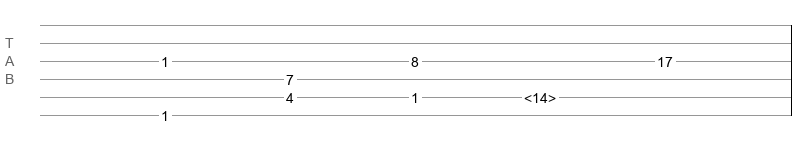1: (161, 54, 169, 64), (161, 108, 169, 118), (411, 90, 419, 100)
17: (657, 54, 673, 64)
4: (286, 90, 294, 100)
7: (286, 72, 294, 82)
8: (411, 54, 419, 64)
harmonic: (524, 90, 556, 100)
